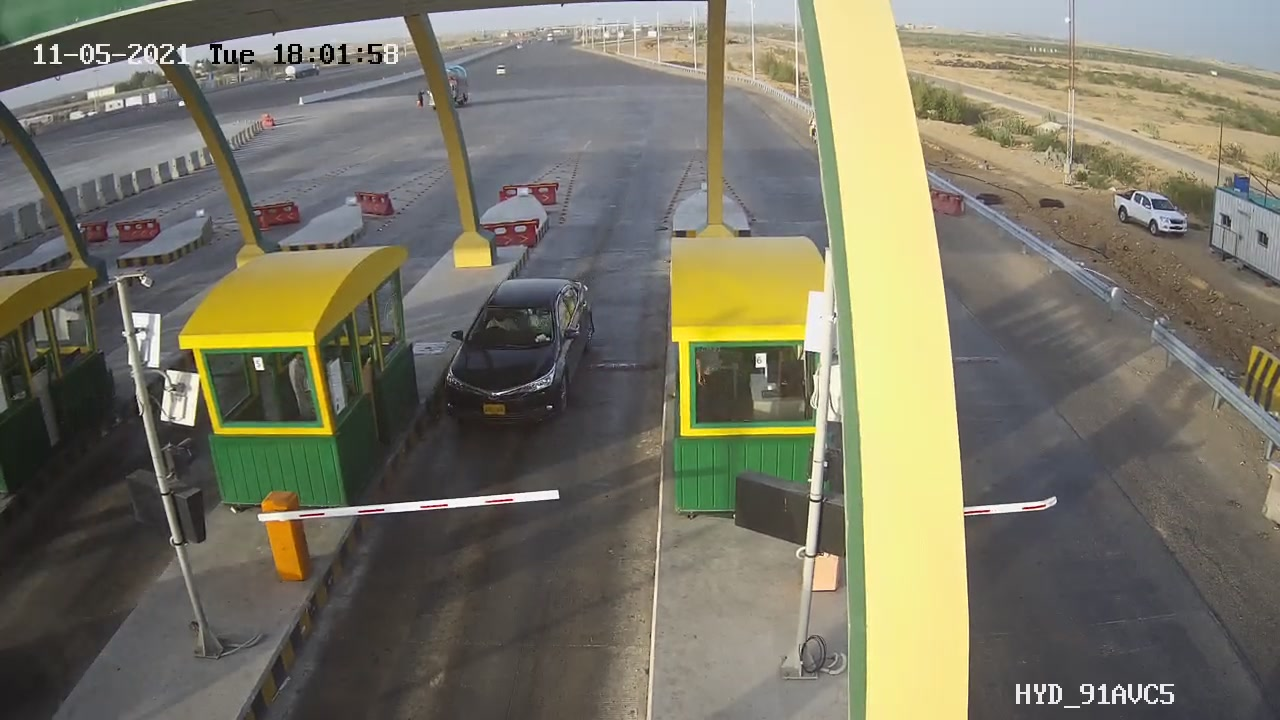F1: (427, 266, 607, 440)
